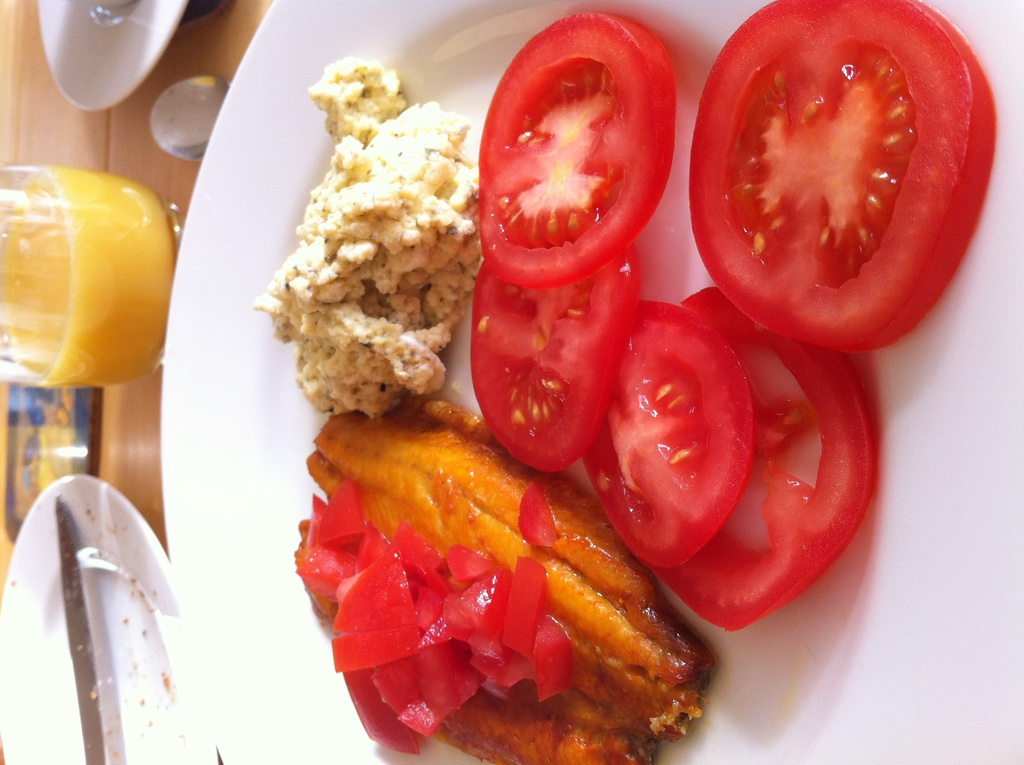Tomato: (691, 0, 988, 361), (654, 286, 862, 638), (474, 7, 679, 292), (567, 297, 758, 571), (470, 243, 632, 471)
